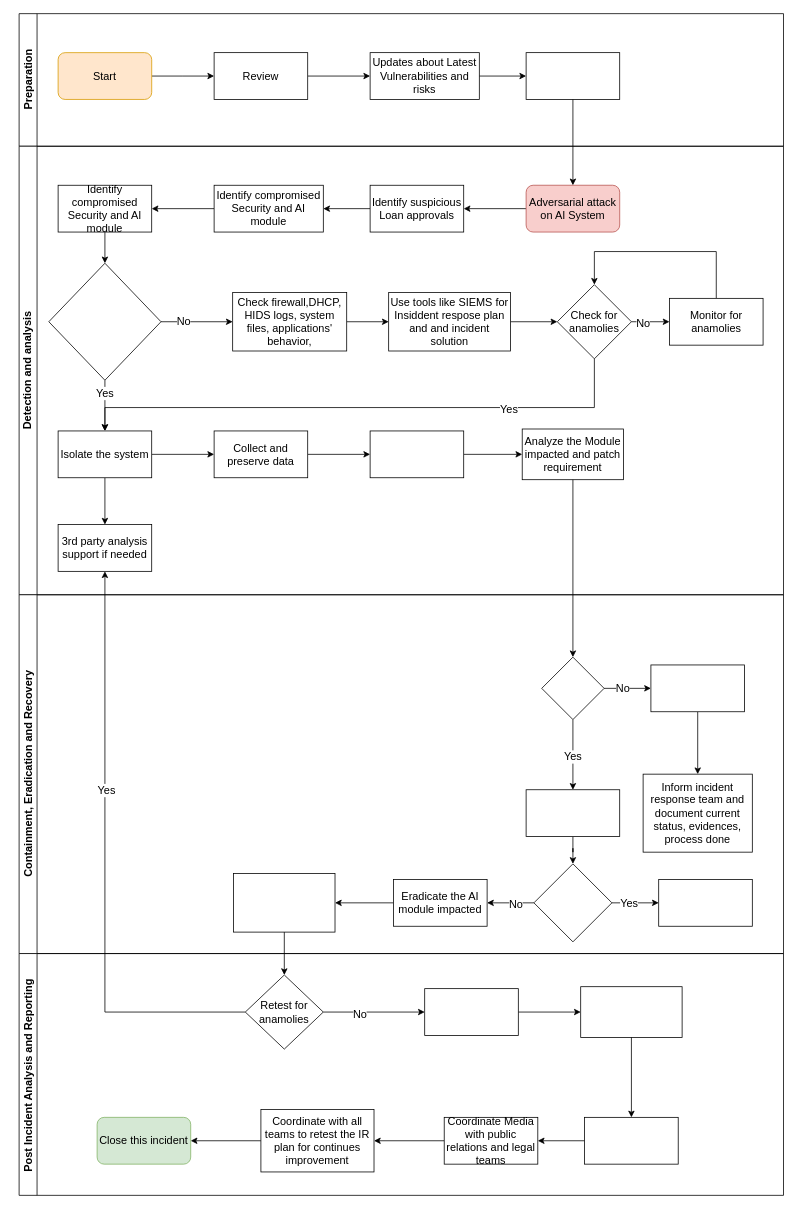
Some shapes in this 797 by 1209 pixel diagram are drawn without their labels. Each missing label, with the centre of its shape:
Analyze the data that was manipulated: the point at 416,454
Apply Data loss Playbook procedure: the point at 705,902
Can be patched: the point at 572,688
Communicate with IR Team for the patch: the point at 572,813
Is there any Data loss?: the point at 572,902
Mitigate: the point at 697,688
Notify customers, regulators and stakeholders: the point at 631,1140
Prepare Report according to laws and regulations: the point at 631,1011
Record all findings and remediation steps: the point at 471,1011
Recover all the AI system with updated modules and retraining: the point at 284,902
Suspicious activity detected?: the point at 104,321
Train employees on AI related risk mitigations: the point at 572,75
